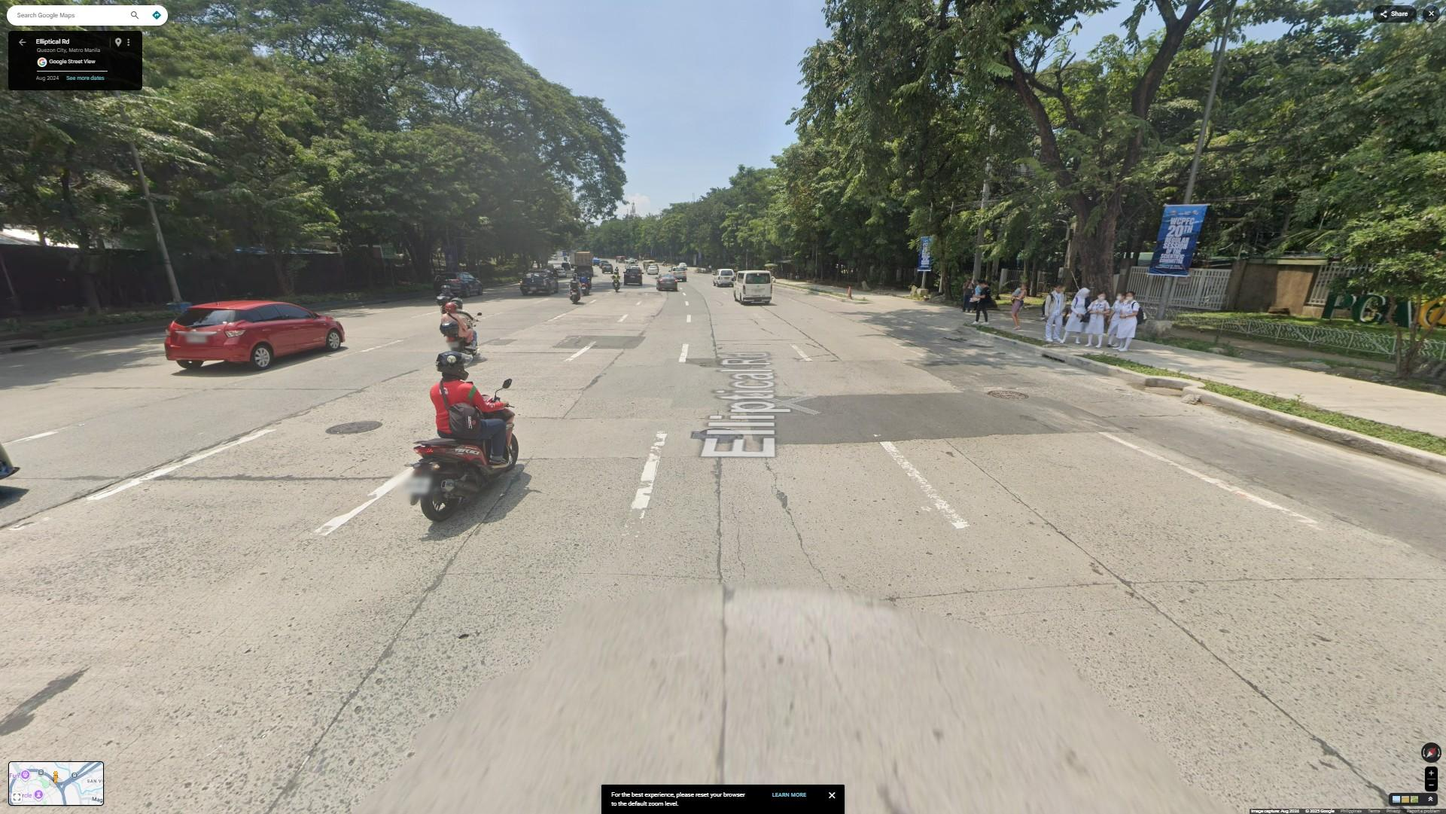cyclist: (663, 258, 668, 267)
pedestrian: (1112, 291, 1146, 353), (1059, 286, 1091, 345), (1084, 291, 1111, 348), (1043, 282, 1064, 343), (1106, 292, 1126, 348), (1009, 282, 1030, 330), (972, 279, 992, 326), (961, 276, 976, 314), (971, 279, 983, 314), (708, 263, 712, 273)
